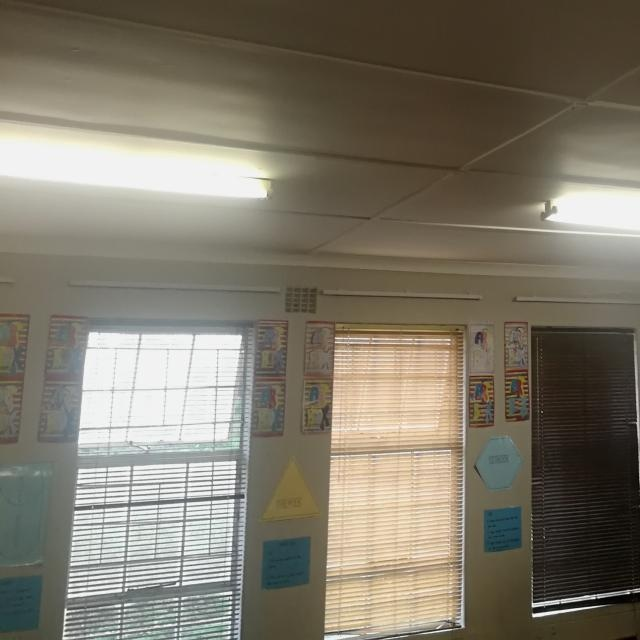fluorescent tube: (0, 87, 281, 218), (530, 183, 640, 284)
